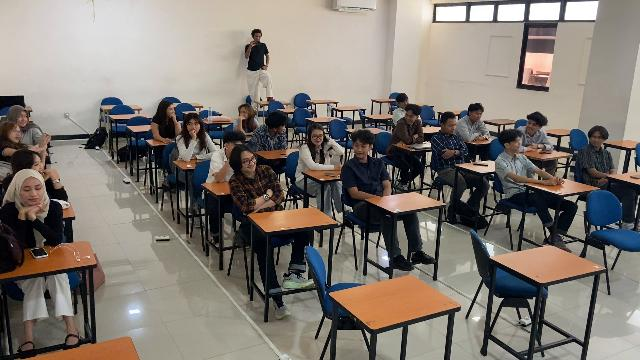senang: (23, 183, 42, 203), (241, 154, 256, 171), (353, 141, 368, 158), (17, 111, 30, 126), (311, 130, 324, 145), (11, 127, 22, 143), (590, 133, 603, 146), (33, 159, 44, 174), (526, 120, 537, 134), (187, 120, 200, 131), (404, 111, 415, 124), (446, 120, 455, 134), (473, 110, 482, 122), (167, 106, 176, 117), (513, 138, 521, 150), (401, 99, 410, 107)
